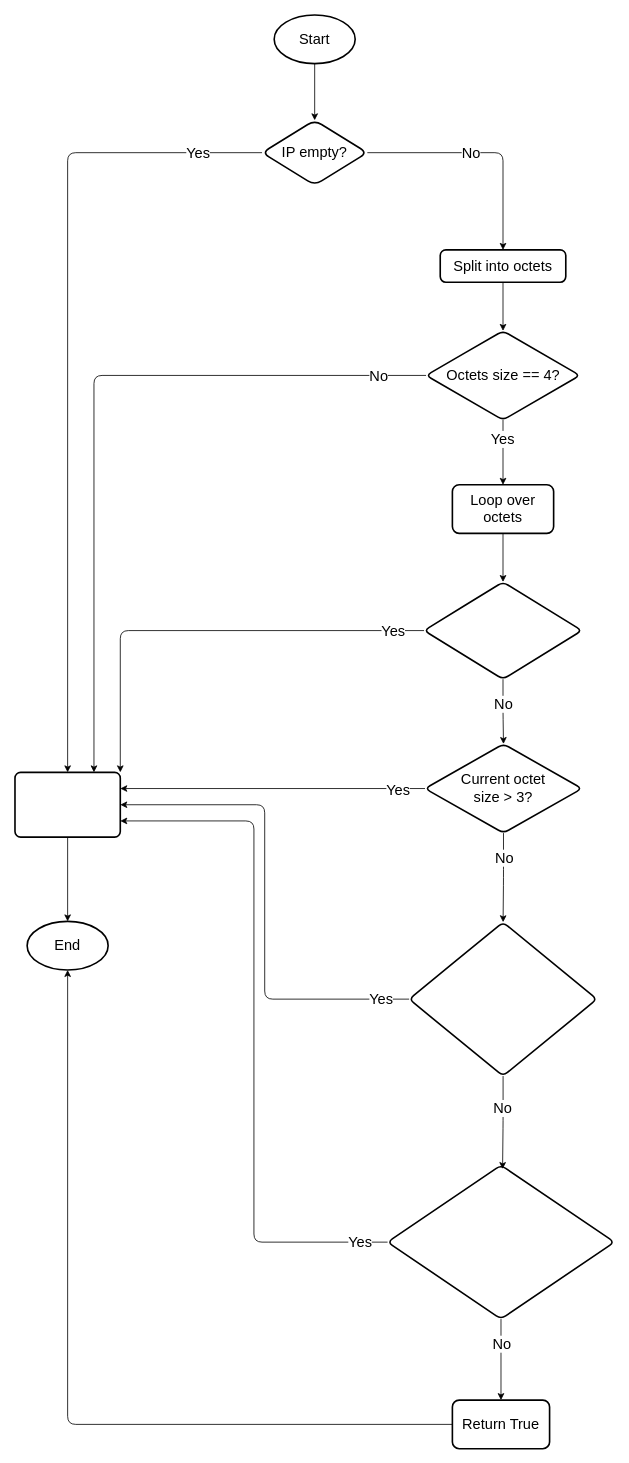
The diagram is 629 pixels wide and 1463 high, and some of its shapes have lost their labels. The centre of each missing label's shape, as x and y in pixels:
Current octet contains leading zeros?: point 502,998
Current octet contains unvalid values?: point 500,1241
Current octet empty?: point 502,630
Return False: point 67,804
